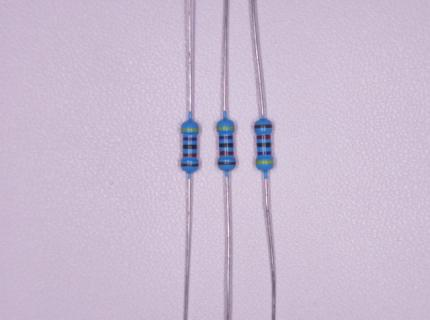Black band: (257, 142, 271, 148), (219, 143, 233, 148), (183, 145, 197, 149)
Brown band: (255, 124, 273, 129), (218, 162, 236, 166), (181, 163, 199, 167)
Red band: (220, 151, 234, 156), (256, 135, 271, 139), (182, 154, 197, 157)
Violet band: (257, 151, 272, 156), (183, 137, 197, 141), (219, 136, 233, 140)
Yellow band: (216, 127, 235, 130), (181, 128, 199, 131), (256, 161, 274, 164)
